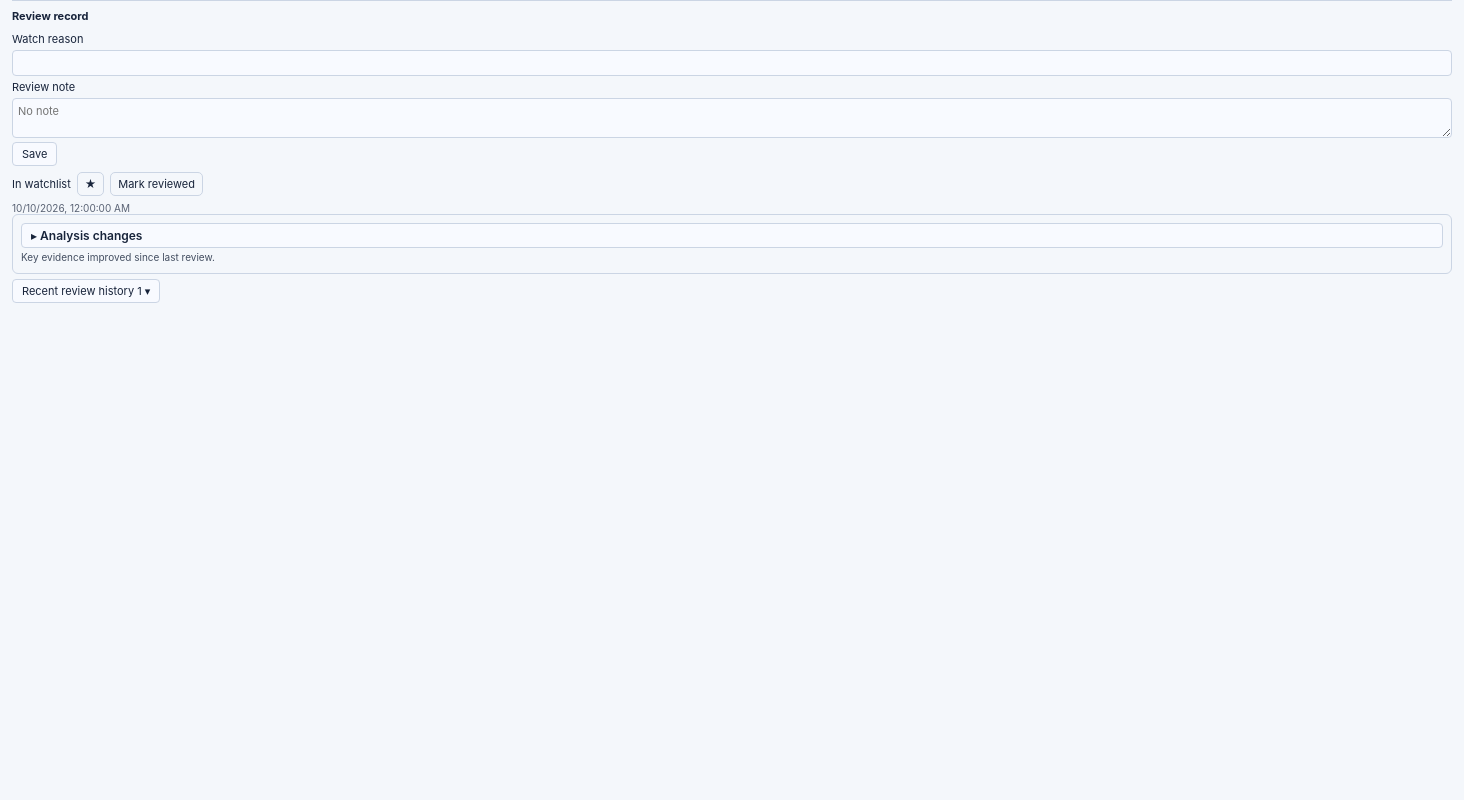
Scenario: Analysis changes › updates the confirmed baseline through the existing provider and persists evidence
Click the button "▸ Analysis changes".
click(91, 236)  # box top-left (21, 223), bottom-right (1443, 248)
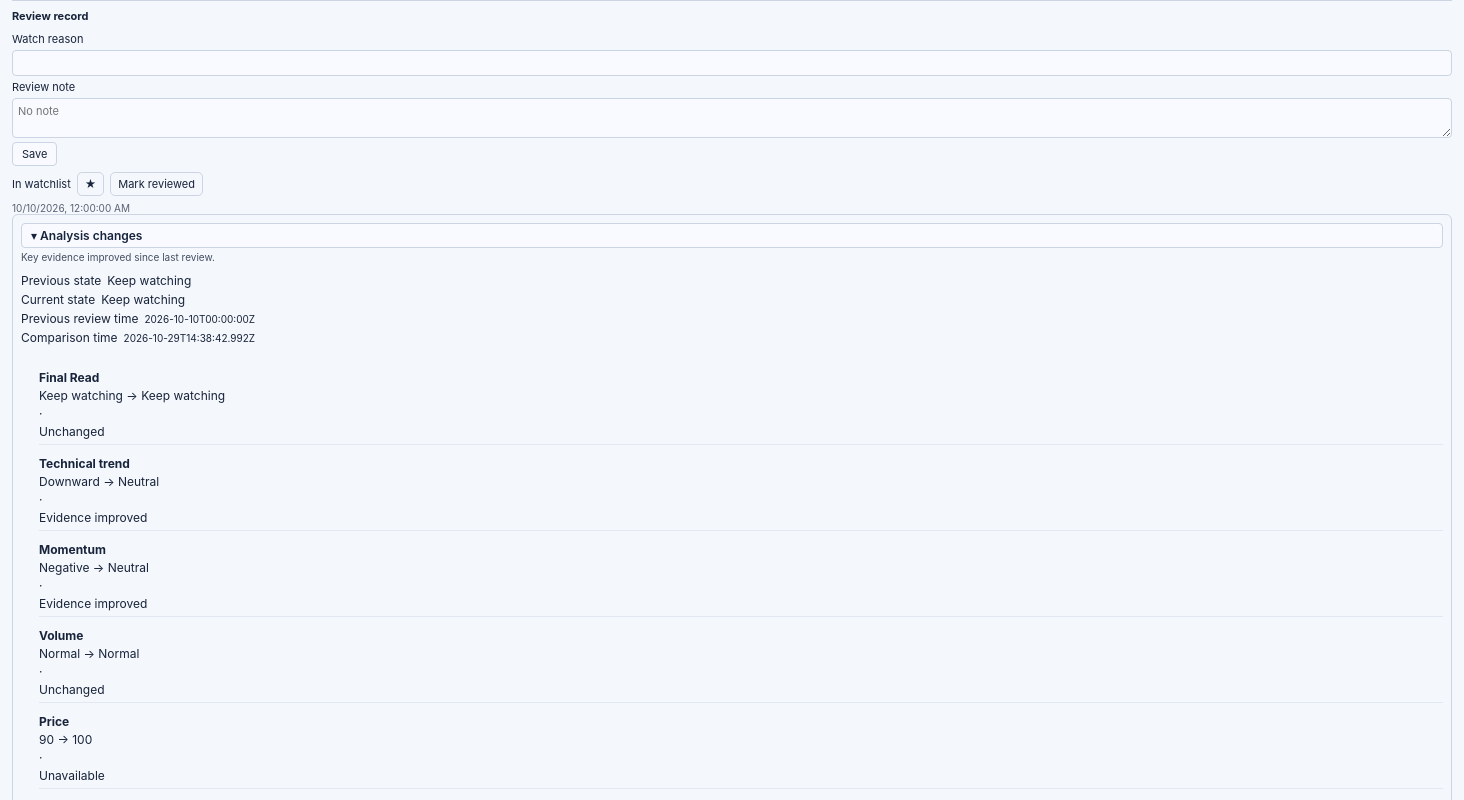
Check: the text "Evidence improved" below "Technical trend" is shown, box top-left (39, 510), bottom-right (147, 524)
Click the button "Mark reviewed".
click(157, 184)  # box top-left (110, 172), bottom-right (203, 196)
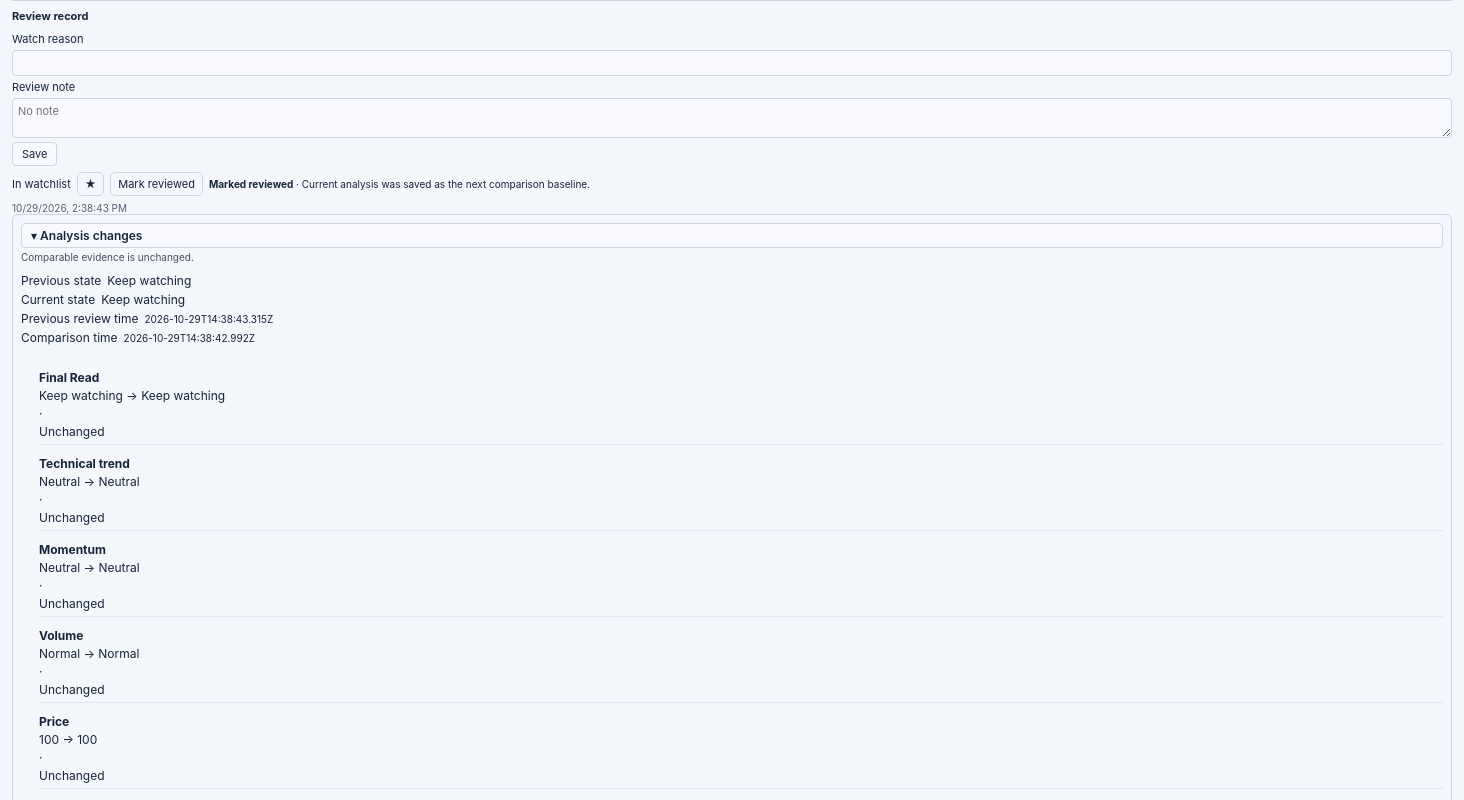
Check: the text "Unchanged" below "Technical trend" is shown, box top-left (39, 510), bottom-right (104, 524)
